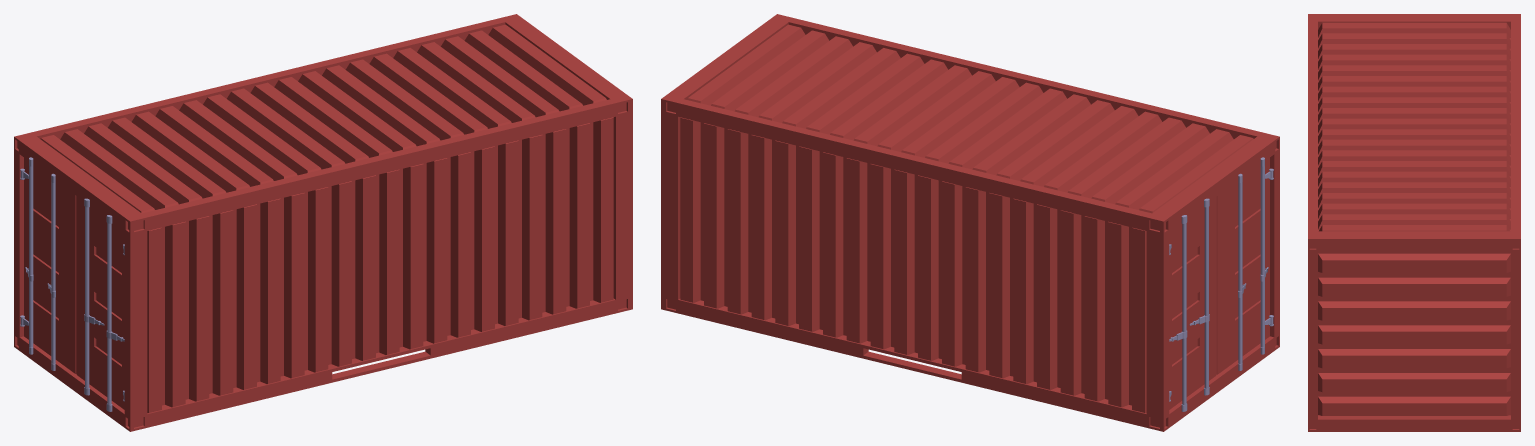
The model's file is Shipping ContainerFixed.fbx.
The picture shows the model from 3 angles, left to right: view 1: azimuth 30°, elevation 25°; view 2: azimuth 150°, elevation 25°; view 3: azimuth 270°, elevation 25°; orthographic projection. The views are drawn at different scales.
Parts seen in each view (by area): view 1: Cube.002, Cube.001, Cube, Cube.005, Cylinder, Cylinder.001; view 2: Cube.003, Cube.001, Cube, Cube.005, Cylinder, Cylinder.001; view 3: Cube.001, Cube.004, Cube.
Boxes of the visible parts, <box> form: Cube.002: <box>147,117,613,412</box>; Cube.001: <box>40,24,606,213</box>; Cube: <box>14,14,632,431</box>; Cube.005: <box>24,157,124,409</box>; Cylinder: <box>25,157,124,411</box>; Cylinder.001: <box>47,173,104,395</box>; Cube.003: <box>680,117,1146,412</box>; Cube.001: <box>687,24,1253,213</box>; Cube: <box>661,14,1279,431</box>; Cube.005: <box>1169,157,1269,409</box>; Cylinder: <box>1169,157,1268,411</box>; Cylinder.001: <box>1189,173,1246,395</box>; Cube.001: <box>1318,22,1510,231</box>; Cube.004: <box>1318,251,1510,415</box>; Cube: <box>1308,14,1520,431</box>.
Size of the model in its own units: 200 by 504 by 200.
